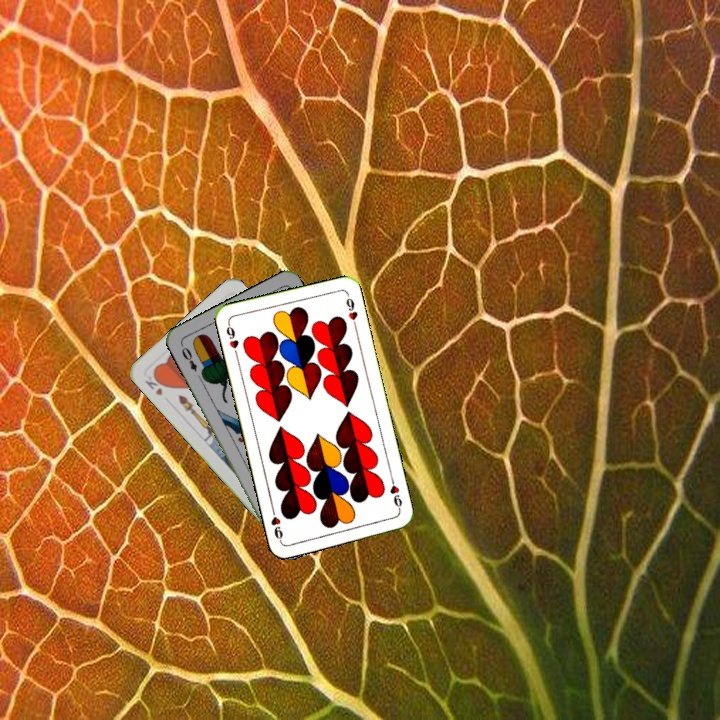EO: (177, 340, 200, 374)
H9: (222, 319, 241, 359), (386, 474, 405, 514)
HK: (141, 370, 168, 398)
